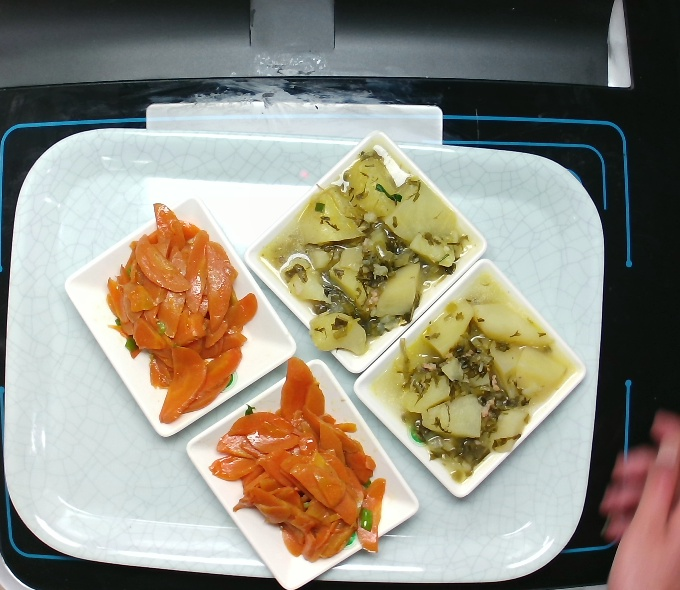wcq-HuLuoBo: (84, 214, 262, 417), (212, 367, 391, 564)
wcq-XueCaiTuDou: (277, 152, 467, 349), (380, 286, 562, 464)
